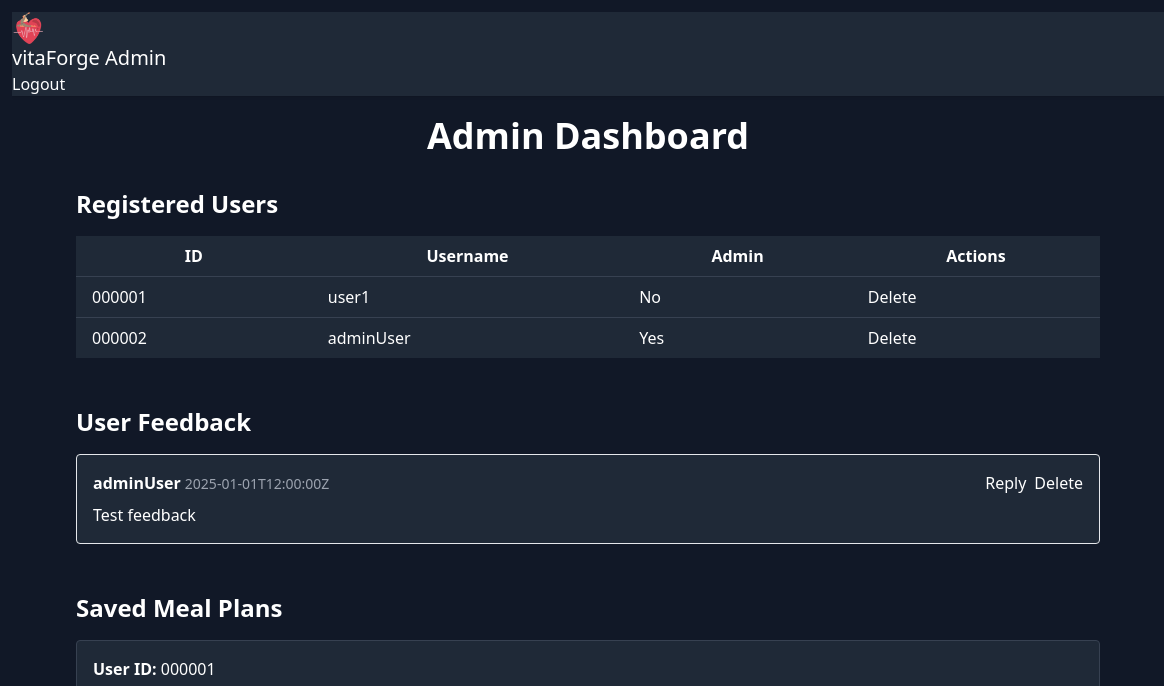
Test: Admin Dashboard Functionalities › deletes a non-admin user successfully
Expected: the text "user1" is shown, x1=312 y1=276 x2=623 y2=318
# Click the first Delete button (for user1).
Click the button "Delete" in the row of "user1" at (892, 297), box x1=868 y1=285 x2=916 y2=309
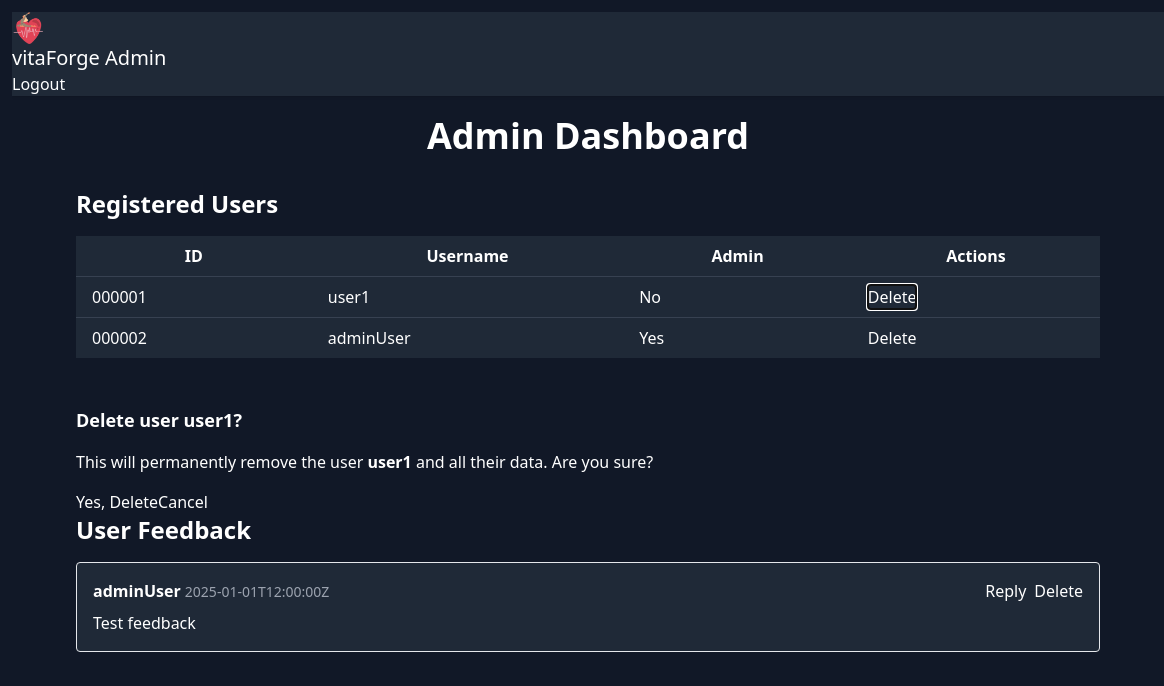
Now the heading "Delete user user1?" is shown, box x1=76 y1=408 x2=242 y2=432
Click the button "Yes, Delete" at (117, 502), box x1=76 y1=490 x2=158 y2=514
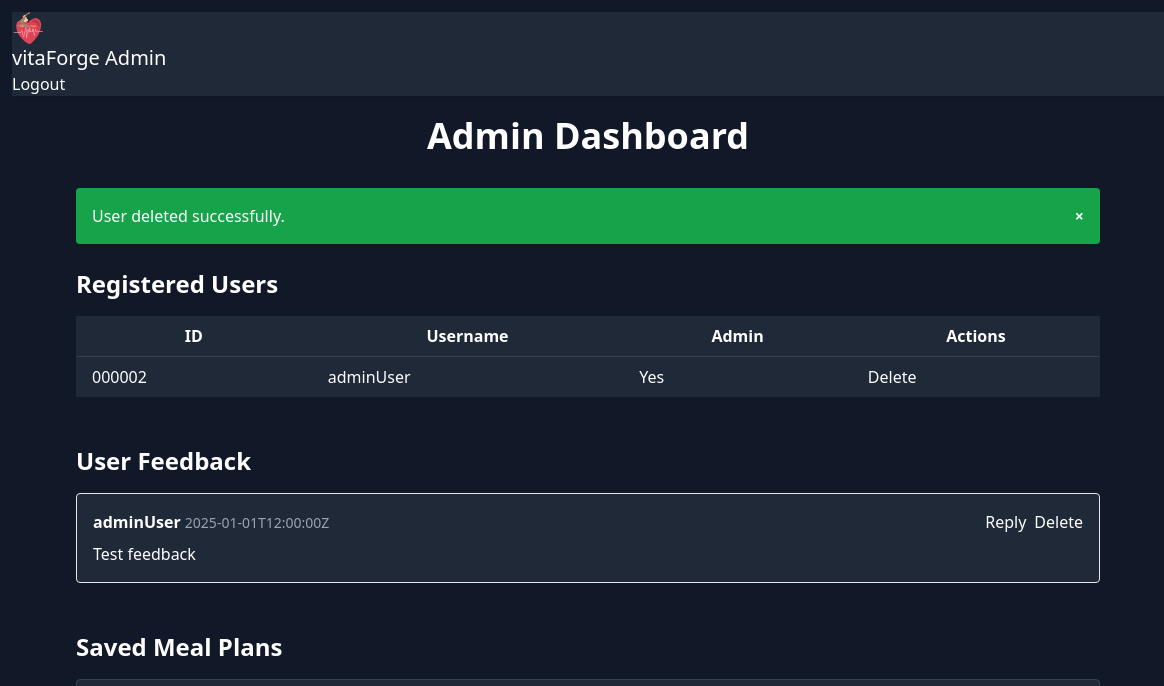
Now the text "user1" is gone
